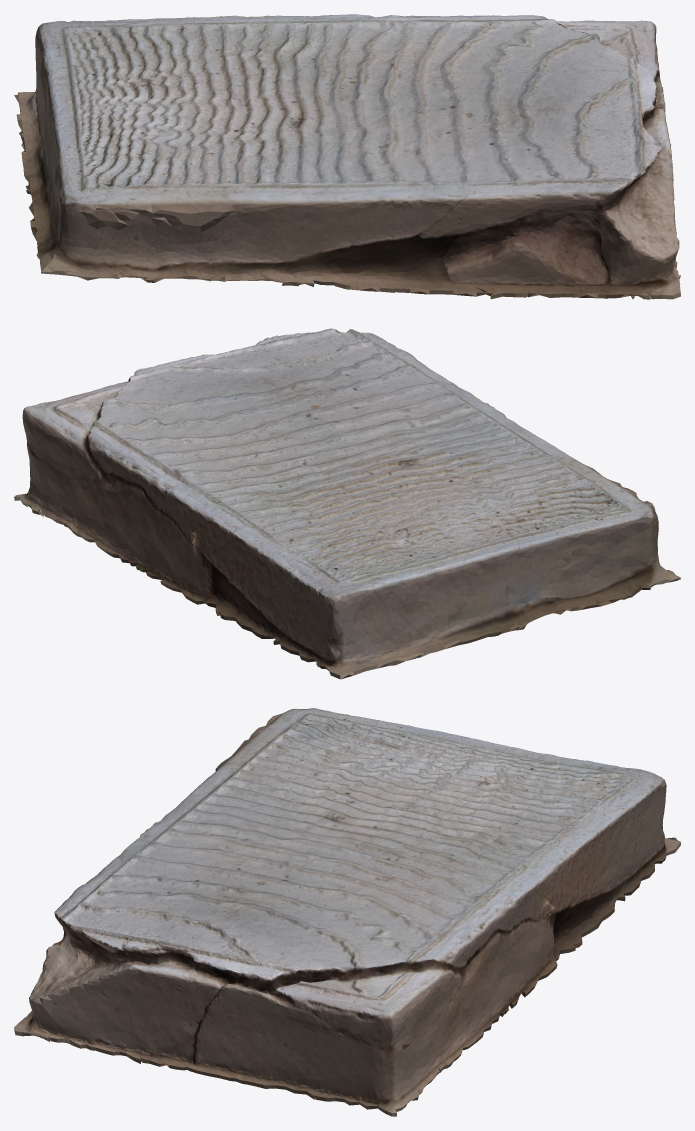
Rendered from Trinity_turntable_web.glb.
3 renders of one model, top to bottom at view 1: azimuth 30°, elevation 25°; view 2: azimuth 150°, elevation 25°; view 3: azimuth 270°, elevation 25°, orthographic. The views are drawn at different scales.
Parts seen in each view (by area): view 1: Turntable; view 2: Turntable; view 3: Turntable.
Part boxes in pixels (x1=…): Turntable: x1=14, y1=14, x2=680, y2=299; Turntable: x1=14, y1=328, x2=680, y2=679; Turntable: x1=14, y1=708, x2=680, y2=1116.
Size of the model in its own units: 1.7 by 0.2871 by 1.5.
1 material, 1 textured.
